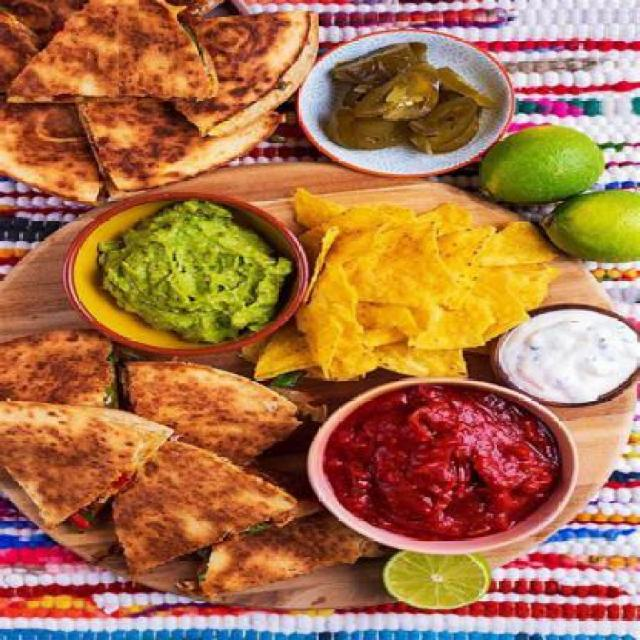chicken quesadilla: (11, 330, 323, 618)
guacamole: (85, 198, 286, 342)
nachos: (243, 195, 579, 391)
